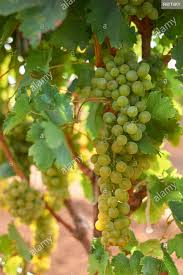grapes: (95, 49, 151, 247)
